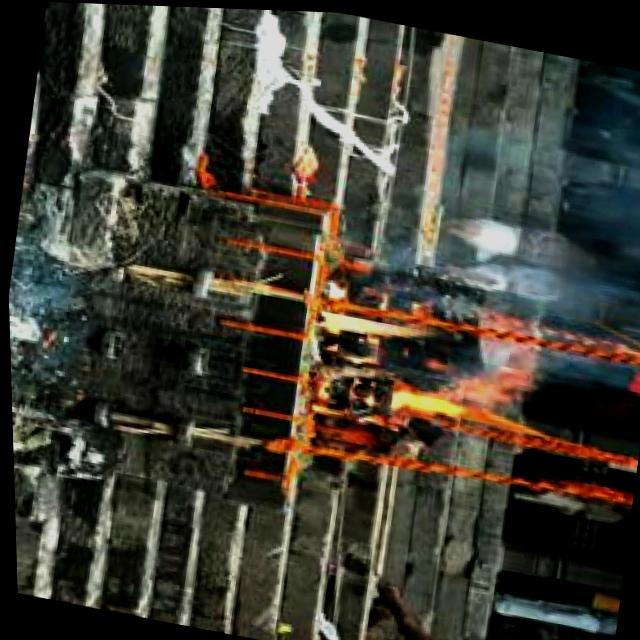helmet: (378, 346, 537, 442), (309, 280, 437, 354)
